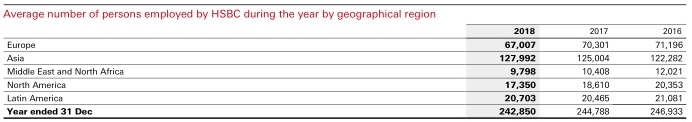column: (3, 1, 435, 122), (498, 1, 538, 122), (575, 1, 611, 122), (649, 1, 684, 122)
row: (1, 9, 692, 21), (1, 66, 692, 77), (1, 40, 691, 50), (1, 80, 691, 89), (1, 54, 692, 62), (1, 94, 692, 102), (1, 107, 691, 115), (1, 27, 692, 34)
